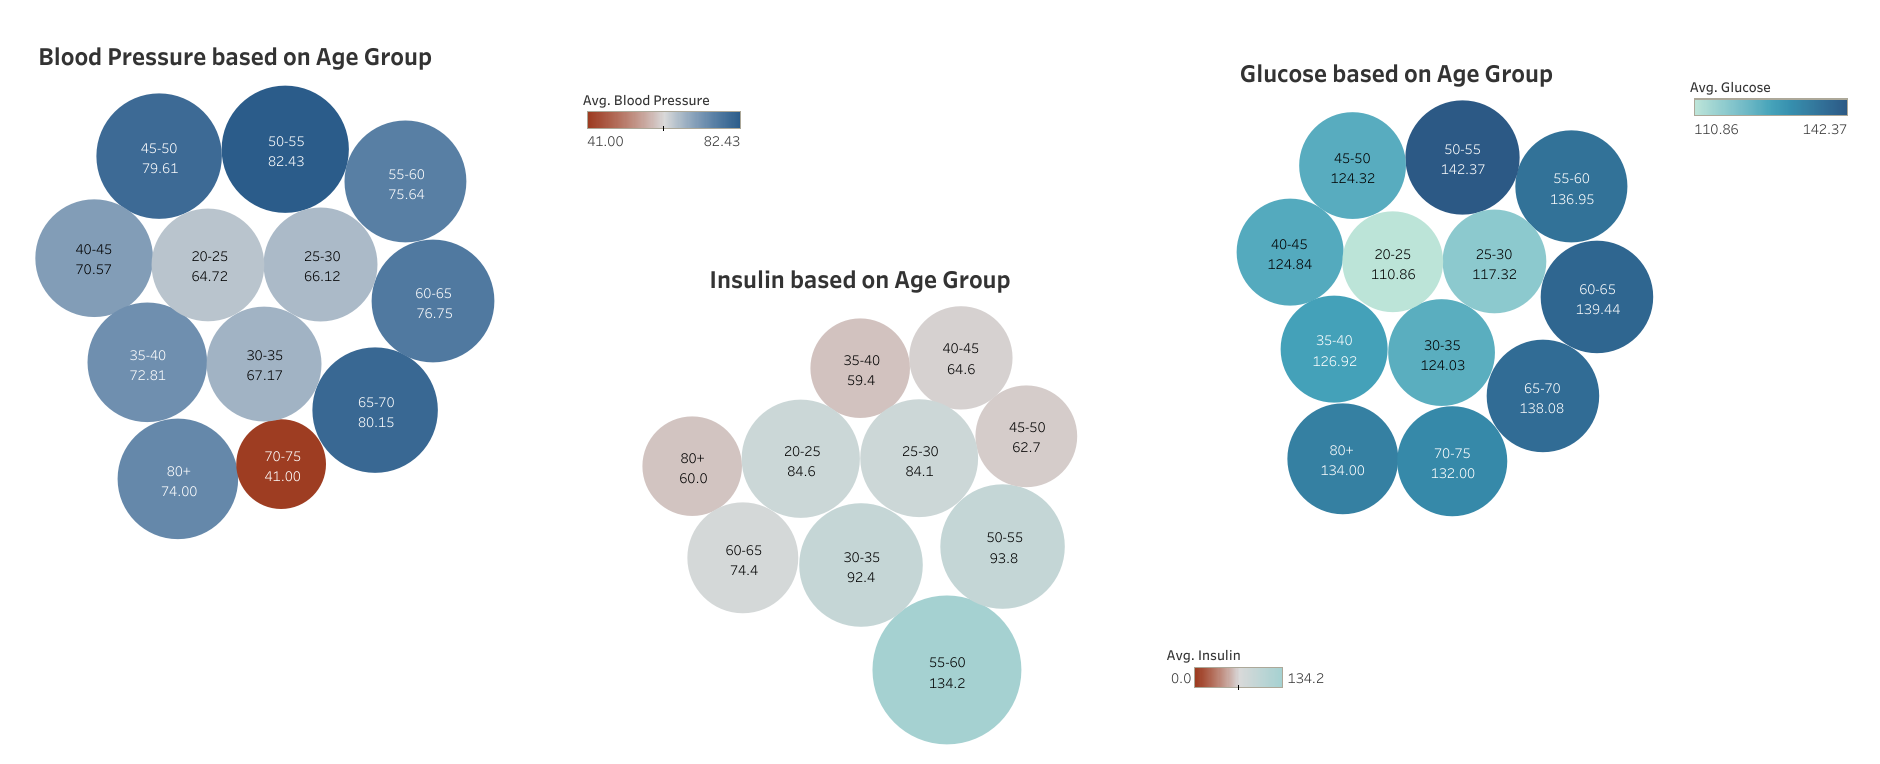

The page's visual inventory and layout, read from the dashboard file:
{"tool":"tableau","page":{"name":"Dashboard 3","canvas":[1000,1000],"units":"permille","ordinal":1},"visuals":[{"type":"worksheet","box":[0,0,1000,1000]},{"type":"worksheet","param":"vert","box":[5,9.5,990.1,981]},{"type":"worksheet","box":[5,9.5,990.1,66.6]},{"type":"worksheet","title":"BP_Age","mark":"Circle","box":[18,42.8,422.5,667.1]},{"type":"worksheet","title":"Glucose_Agegroup","mark":"Circle","box":[657,64.2,328.8,612.4]},{"type":"worksheet","box":[5,76.1,990.1,914.4]},{"type":"worksheet","title":"Glucose_Agegroup","mark":"Circle","param":"[federated.0n1z64w0ic4gnw1goietv005ucen].[avg:Glucose:qk]","box":[898.3,93.9,86.9,104.6]},{"type":"worksheet","title":"BP_Age","mark":"Circle","param":"[federated.0n1z64w0ic4gnw1goietv005ucen].[avg:BloodPressure:qk]","box":[309.6,110.6,86.9,104.6]},{"type":"worksheet","title":"Insulin AgeGroup","mark":"Circle","box":[340.6,334.1,485.1,639.7]},{"type":"worksheet","title":"Insulin AgeGroup","mark":"Circle","param":"[federated.0n1z64w0ic4gnw1goietv005ucen].[avg:Insulin:qk]","box":[620.4,837.1,86.9,104.6]}]}

Visuals, with their boxes on the dashboard's canvas, which has no fixed pixel size, in thousandths of its width and height (x1, y1, x2, y2). These are canvas units, not pixel positions in the 1880x764 screenshot, which may show the page scaled, cropped or inside an application window:
worksheet: pyautogui.locateOnScreen(0, 0, 1000, 1000)
worksheet: pyautogui.locateOnScreen(5, 10, 995, 990)
worksheet: pyautogui.locateOnScreen(5, 10, 995, 76)
"BP_Age" worksheet (Circle marks): pyautogui.locateOnScreen(18, 43, 440, 710)
"Glucose_Agegroup" worksheet (Circle marks): pyautogui.locateOnScreen(657, 64, 986, 677)
worksheet: pyautogui.locateOnScreen(5, 76, 995, 990)
"Glucose_Agegroup" worksheet (Circle marks): pyautogui.locateOnScreen(898, 94, 985, 198)
"BP_Age" worksheet (Circle marks): pyautogui.locateOnScreen(310, 111, 396, 215)
"Insulin AgeGroup" worksheet (Circle marks): pyautogui.locateOnScreen(341, 334, 826, 974)
"Insulin AgeGroup" worksheet (Circle marks): pyautogui.locateOnScreen(620, 837, 707, 942)
